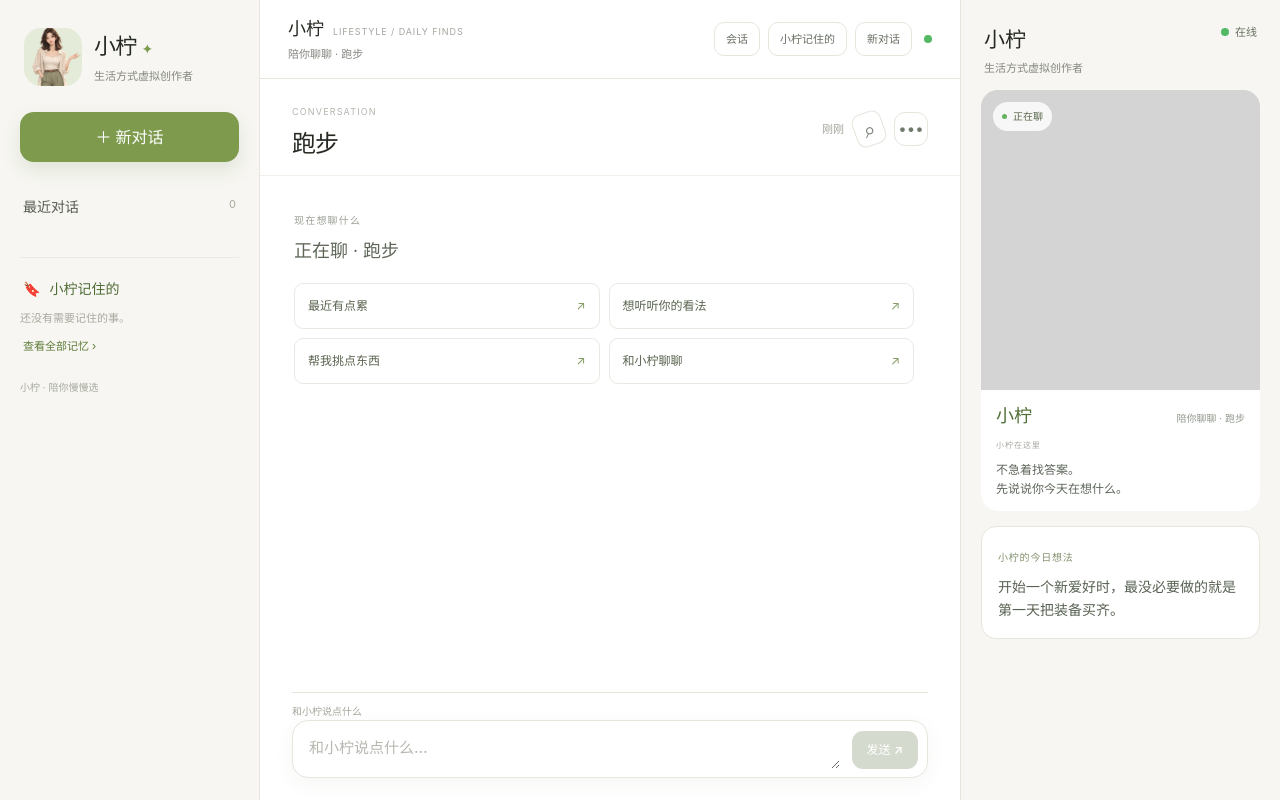
Scenario: Final Creator Home › keeps fashion mode layout-ready and does not repeat assistant avatars in messages
This screenshot has width=1280, height=800.
Expected: the text "小柠" is shown, [94,34,142,59]
Type "我准备白衬衫牛仔裤" into the text box with placeholder "和小柠说点什么…" at x=574, y=750, box [309,731,840,769]
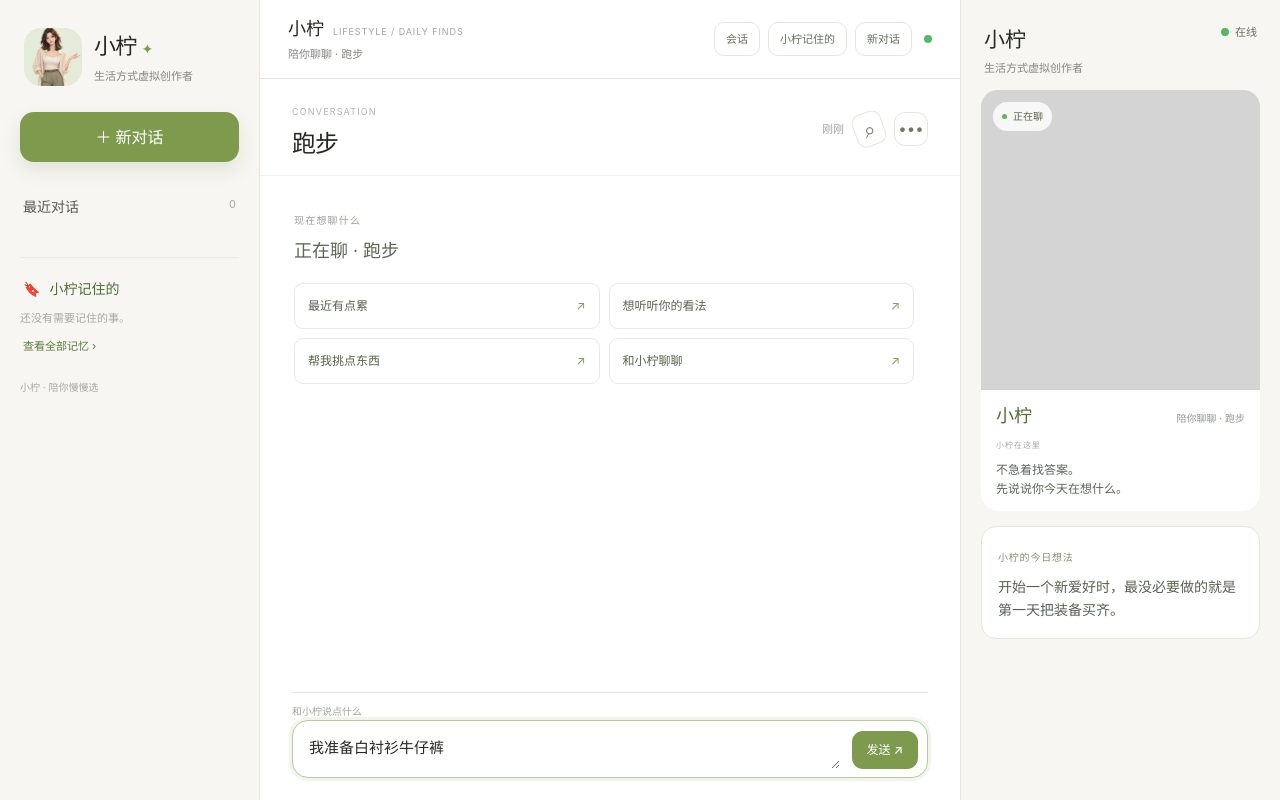
Click the button "发送 ↗" at x=885, y=750, box [852,731,918,769]
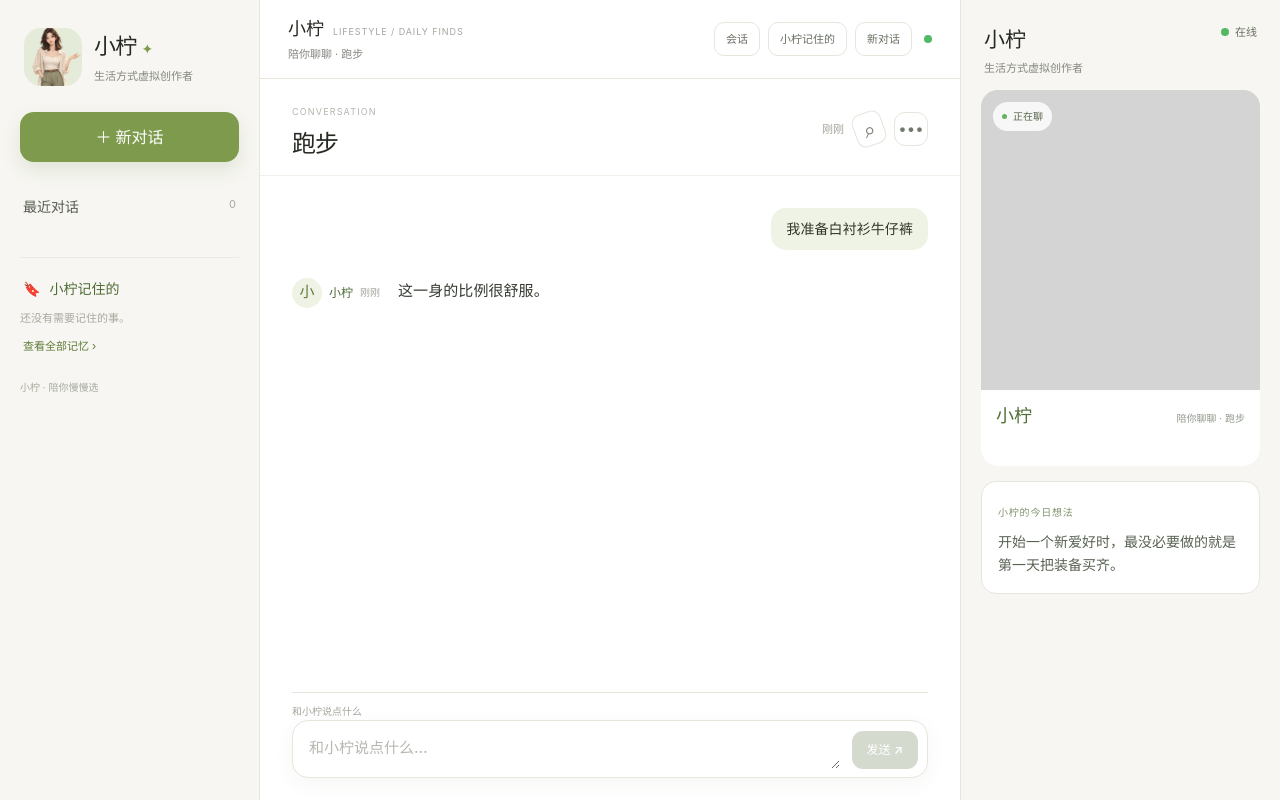
Expected: the text "这一身的比例很舒服。" is shown, [398,281,549,300]
Expected: the number of elements with class "message-avatar" is 1, [292,278,322,308]
